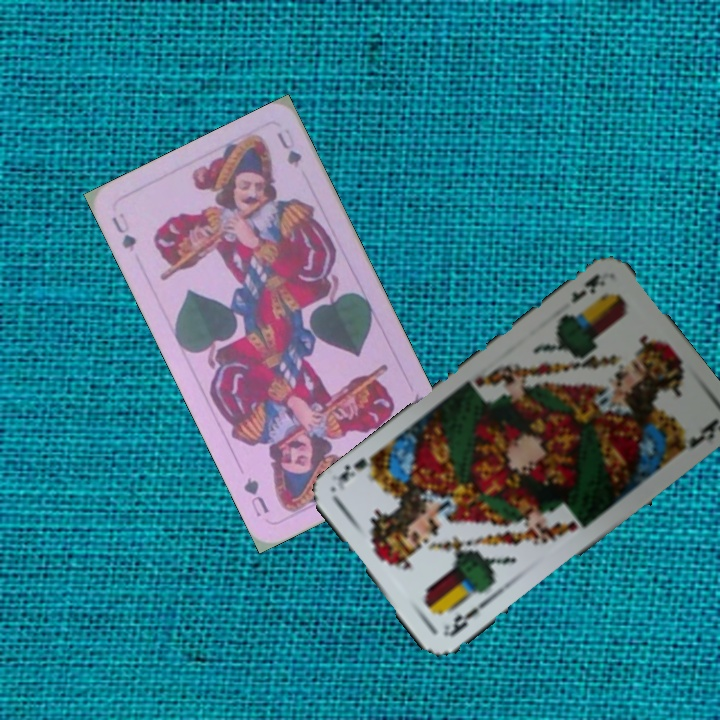EK: (439, 595, 491, 640), (567, 269, 608, 306)
GU: (107, 209, 139, 254)
